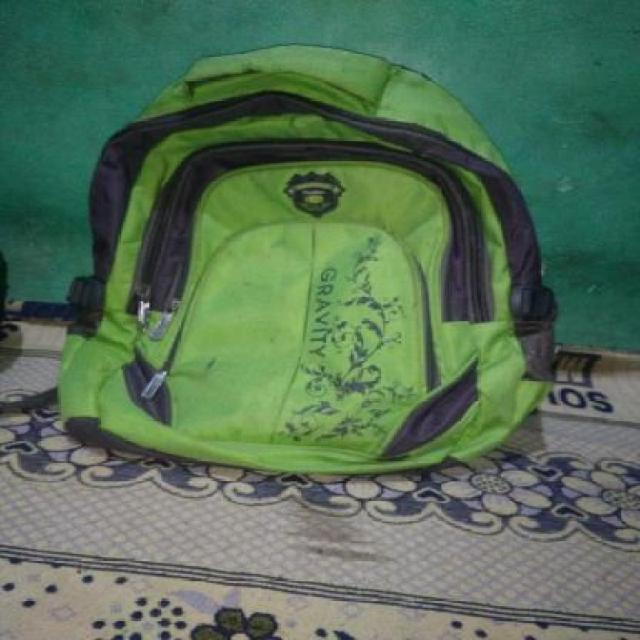backpack: (51, 35, 562, 483)
